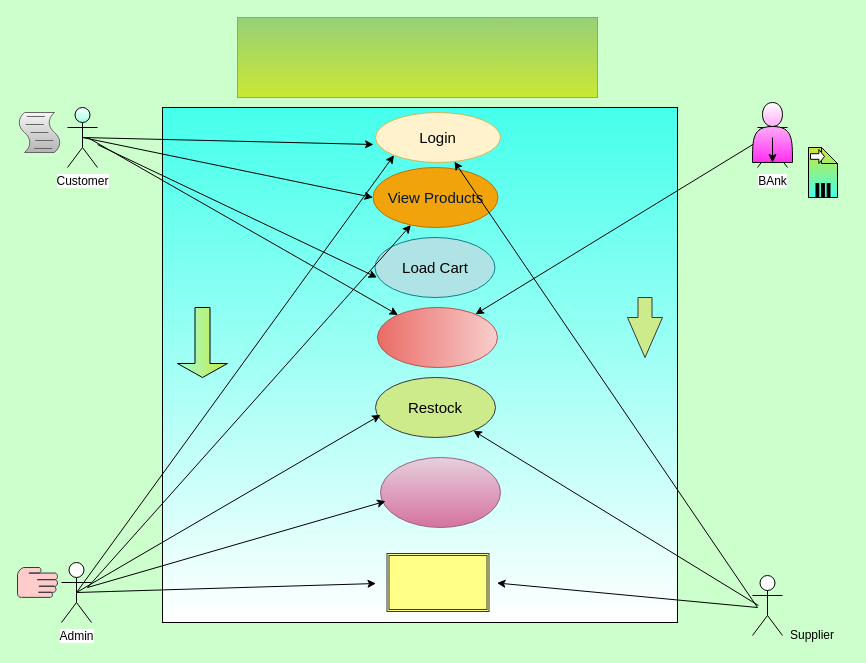
This 866x663 diagram has some shape labels left out. Here are the shapes that lost their labels. From the top down, the box of each, then its label:
(236, 16, 598, 98): UML DIAGRAM
(376, 306, 498, 368): Payments
(380, 456, 500, 528): Add/ Remove Products
(386, 552, 489, 612): Deivery
